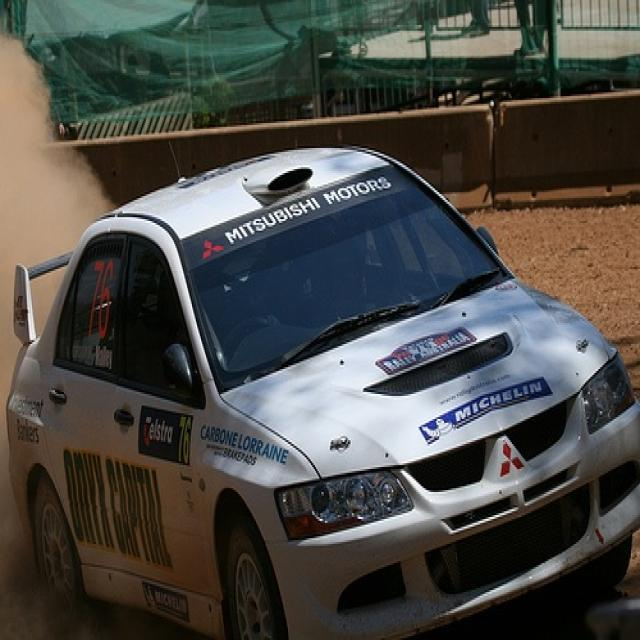car: (5, 144, 639, 638)
